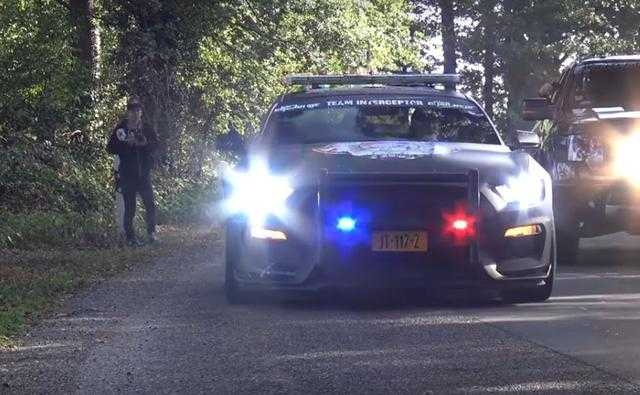Police Car: (230, 61, 564, 323)
